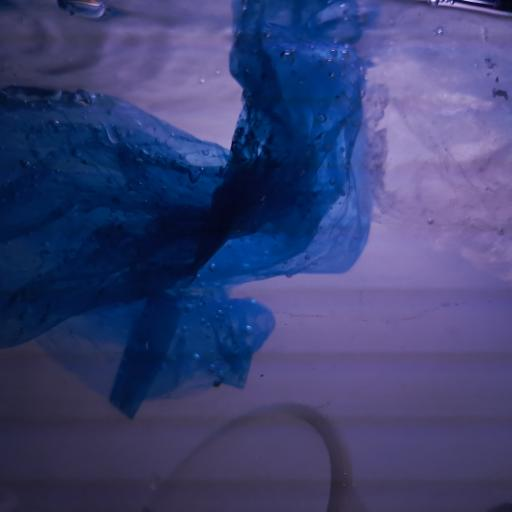plastic_bag: (1, 0, 380, 419), (350, 4, 512, 284)
plastic_cup: (139, 399, 371, 512)
